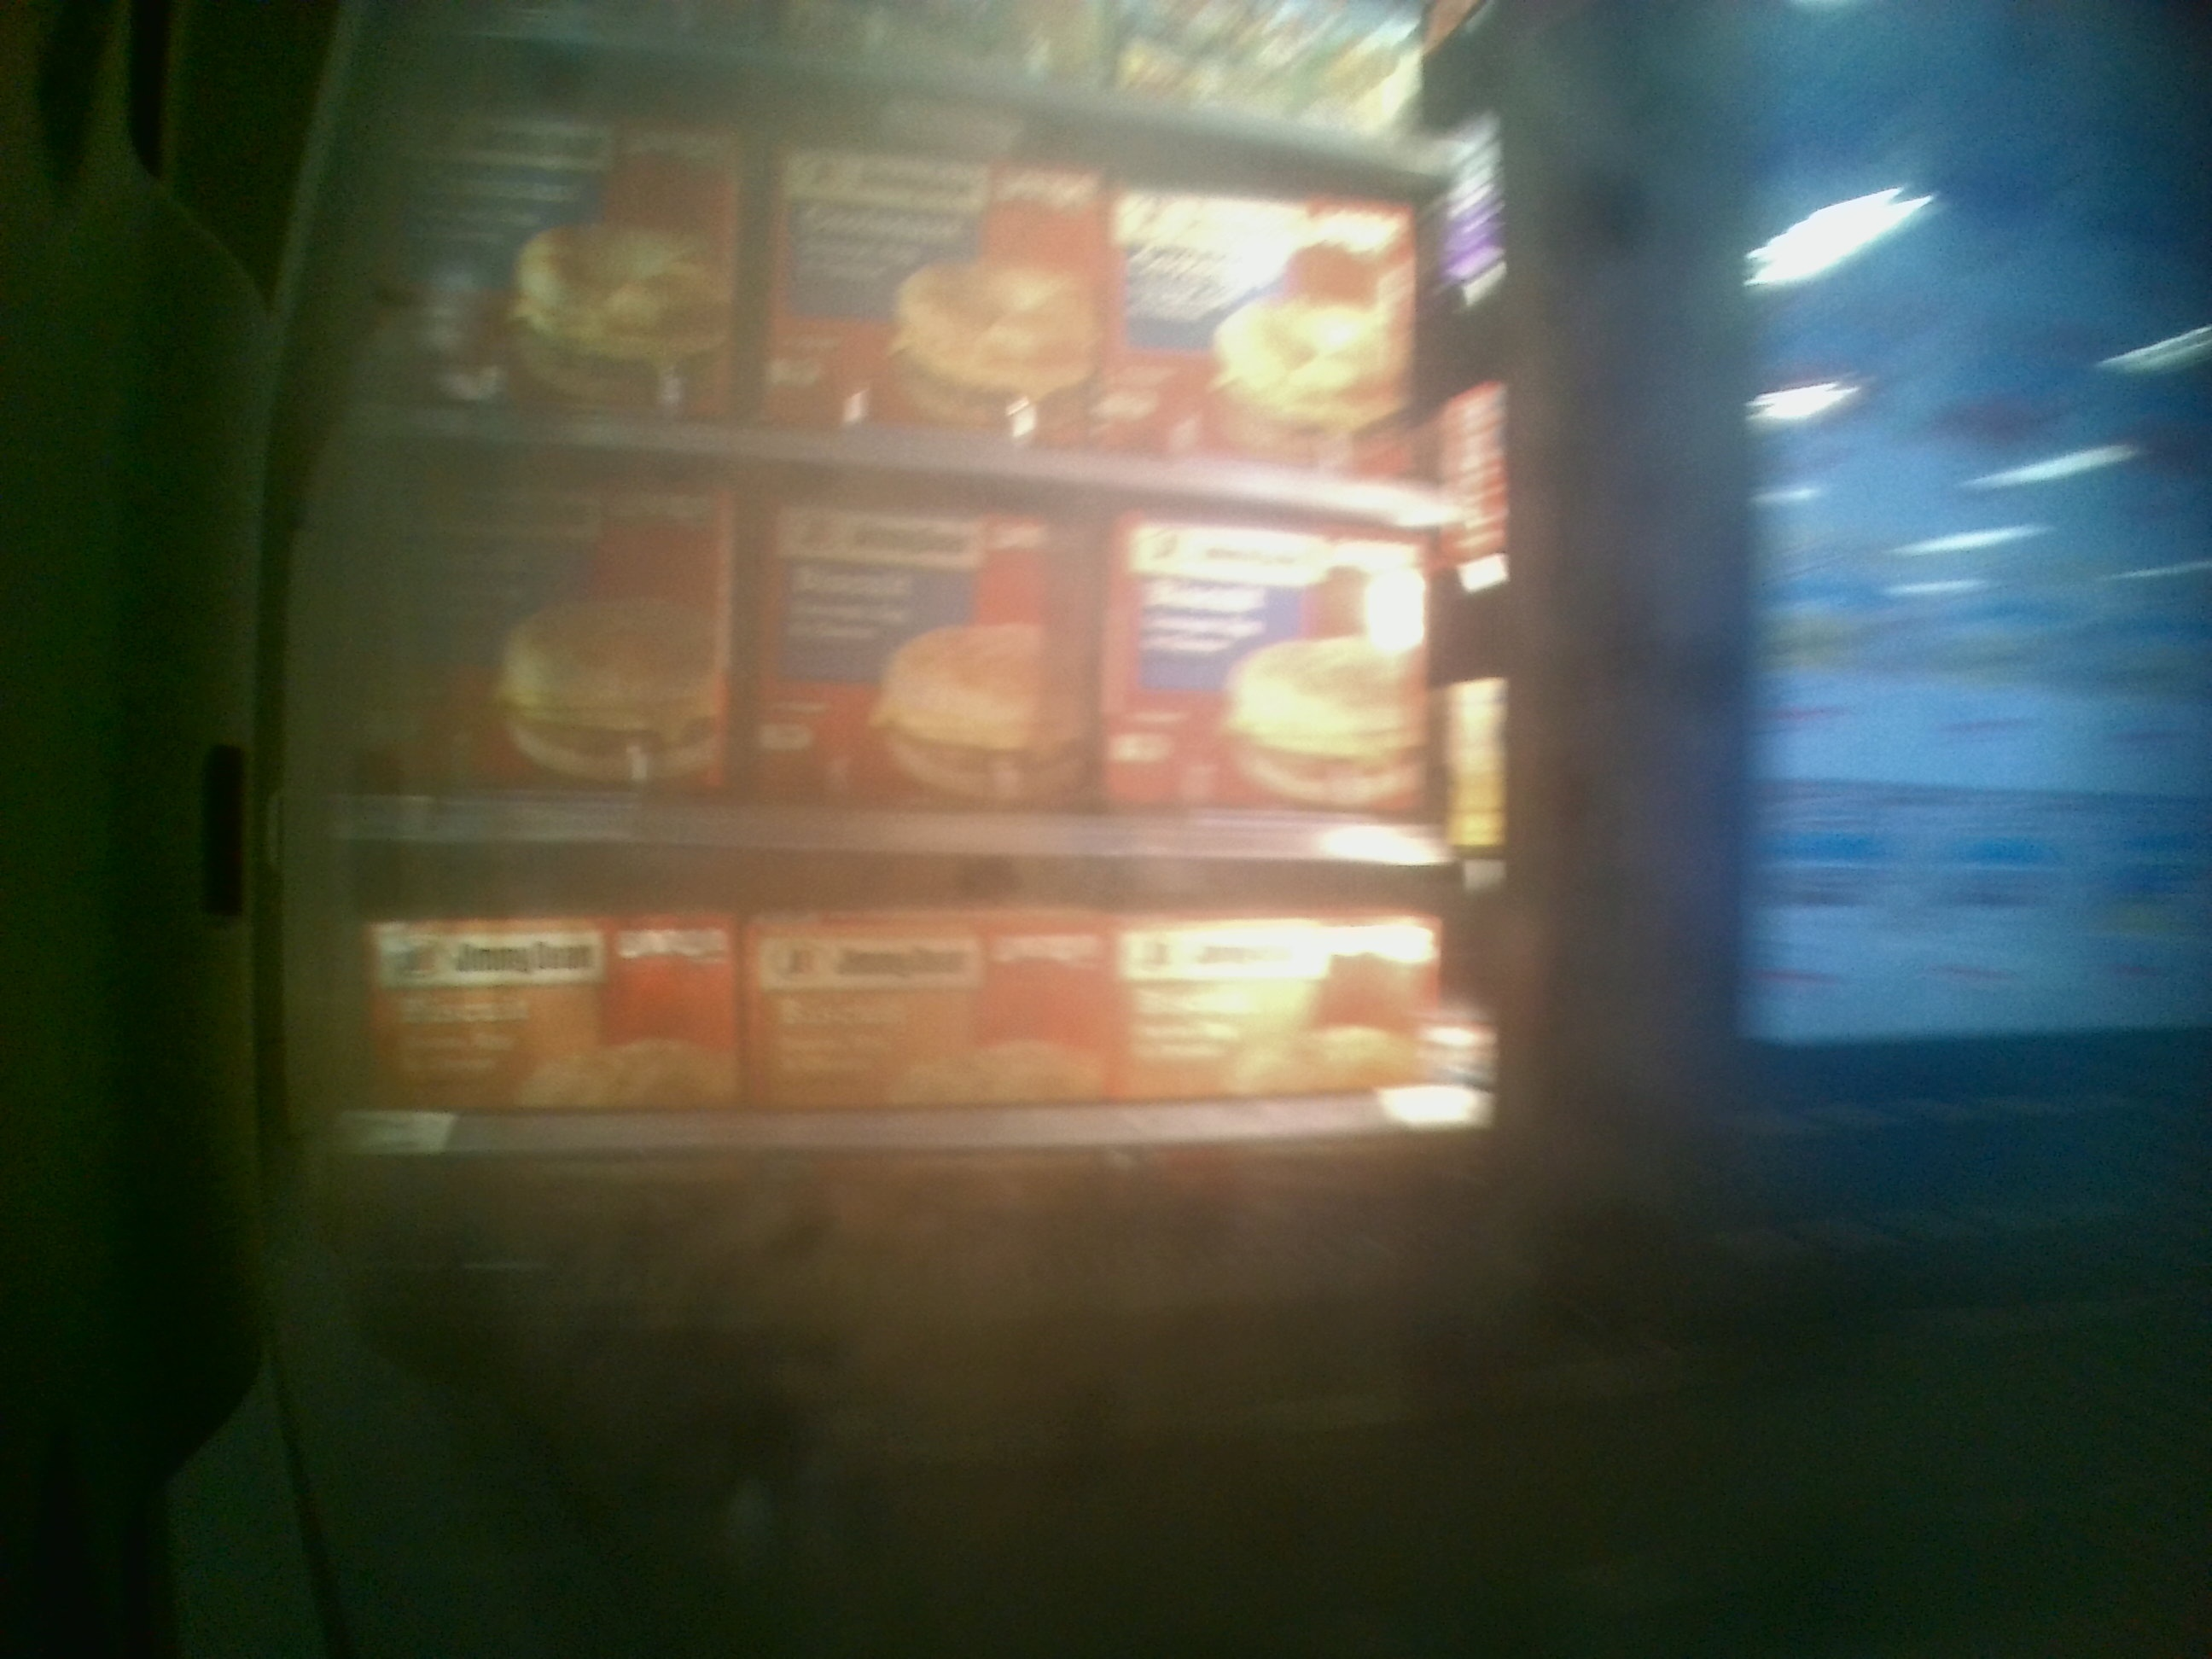shelf: (315, 427, 1465, 863), (308, 836, 1491, 1253)
